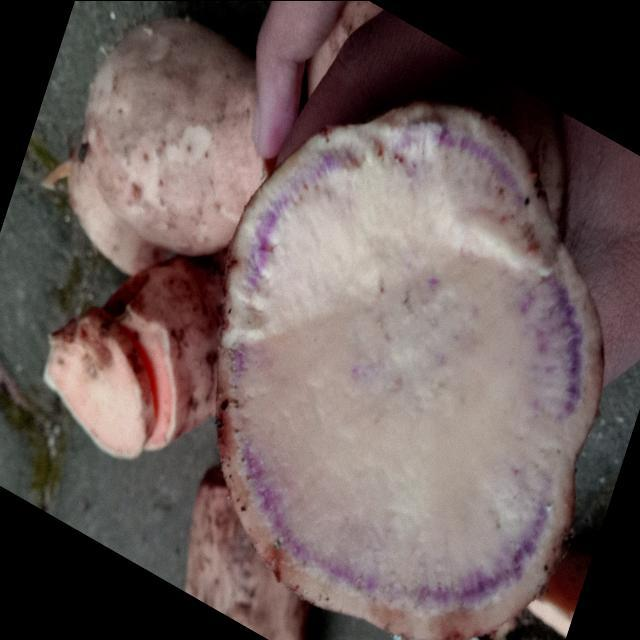Healthy Sweet Potato: (219, 103, 601, 637)
